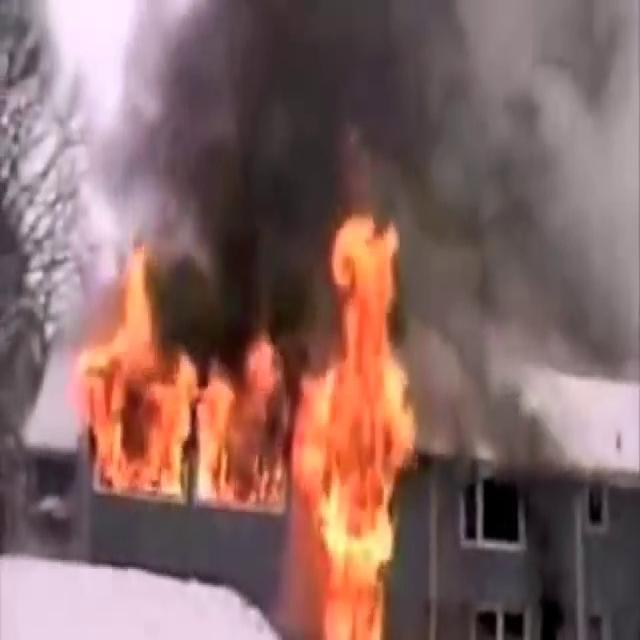Fire: (270, 202, 426, 637), (62, 247, 278, 516)
Smoke: (69, 0, 639, 320)
